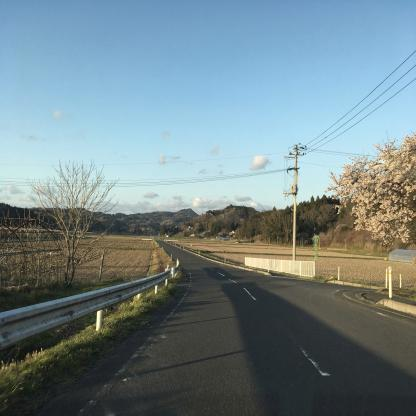Someiyoshino: (322, 116, 416, 258)
